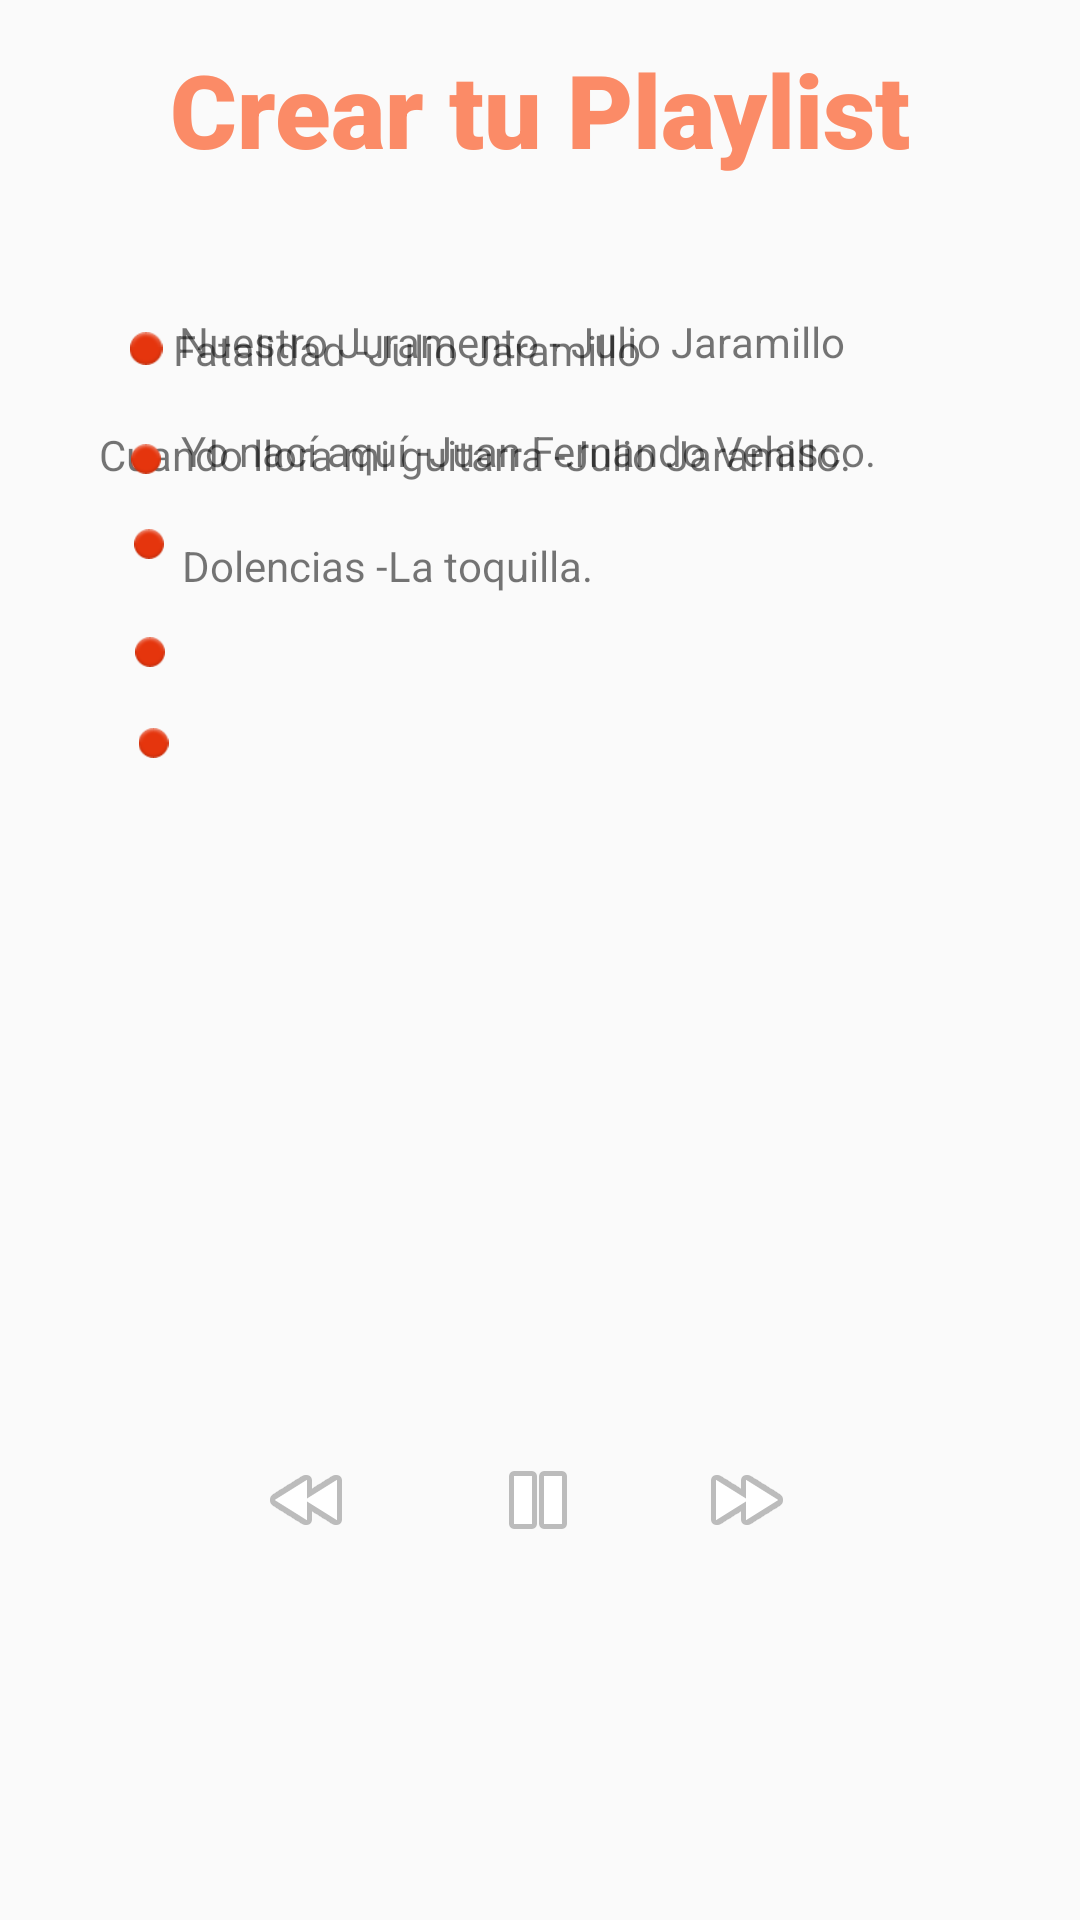

Named icons in this screenshot (1080x1920) and their bounding boxes, (left=x1, top=y1, right=x2, bottom=y2):
pause: (left=509, top=1471, right=567, bottom=1529)
rew: (left=270, top=1475, right=342, bottom=1525)
